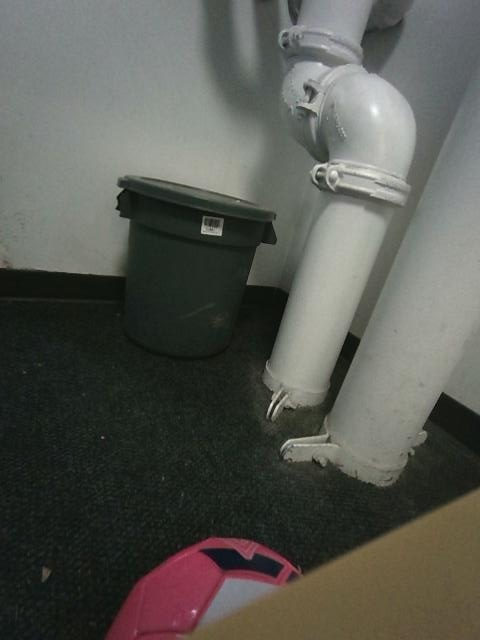ball: (105, 538, 300, 639)
